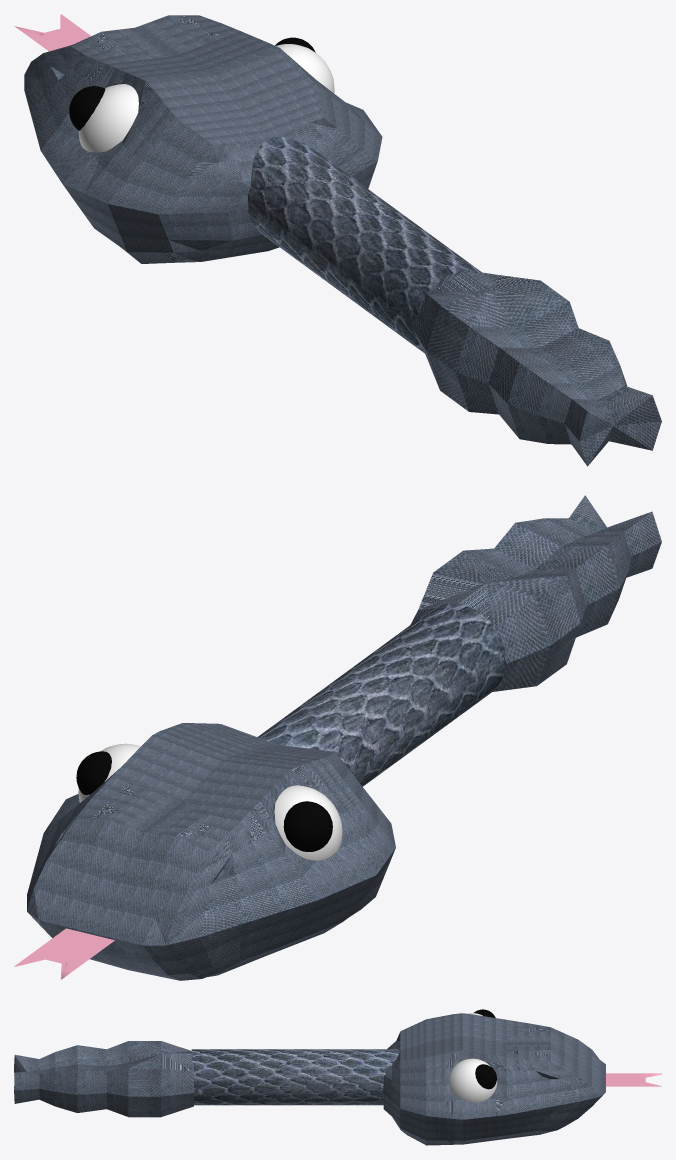
File: Snake.FBX
3 renders of one model, top to bottom at view 1: azimuth 30°, elevation 25°; view 2: azimuth 150°, elevation 25°; view 3: azimuth 270°, elevation 25°, orthographic. The views are drawn at different scales.
Parts seen in each view (by area): view 1: Layer:0, Layer:2, Cylinder002, Sphere002, Box001, Sphere001, Sphere003; view 2: Layer:0, Layer:2, Cylinder002, Box001, Sphere002, Sphere003, Sphere004; view 3: Layer:0, Layer:2, Cylinder002, Sphere001, Box001, Sphere004.
Boxes of the visible parts, left/top/right/bottom form: Layer:0: left=24, top=15, right=382, bottom=263; Layer:2: left=411, top=269, right=661, bottom=466; Cylinder002: left=247, top=136, right=481, bottom=353; Sphere002: left=78, top=84, right=138, bottom=152; Box001: left=14, top=14, right=90, bottom=51; Sphere001: left=276, top=44, right=334, bottom=93; Sphere003: left=69, top=86, right=105, bottom=130; Layer:0: left=27, top=723, right=395, bottom=980; Layer:2: left=410, top=495, right=661, bottom=691; Cylinder002: left=257, top=603, right=505, bottom=786; Box001: left=14, top=928, right=114, bottom=979; Sphere002: left=274, top=785, right=342, bottom=860; Sphere003: left=283, top=801, right=332, bottom=851; Sphere004: left=76, top=751, right=111, bottom=794; Layer:0: left=382, top=1013, right=605, bottom=1145; Layer:2: left=14, top=1041, right=193, bottom=1117; Cylinder002: left=191, top=1049, right=399, bottom=1105; Sphere001: left=449, top=1058, right=497, bottom=1102; Box001: left=606, top=1073, right=661, bottom=1086; Sphere004: left=475, top=1064, right=496, bottom=1089.
Bounding box in the file's own units: 1.31 × 0.6675 × 4.31.
Materials: 8 (8 with a texture image).
